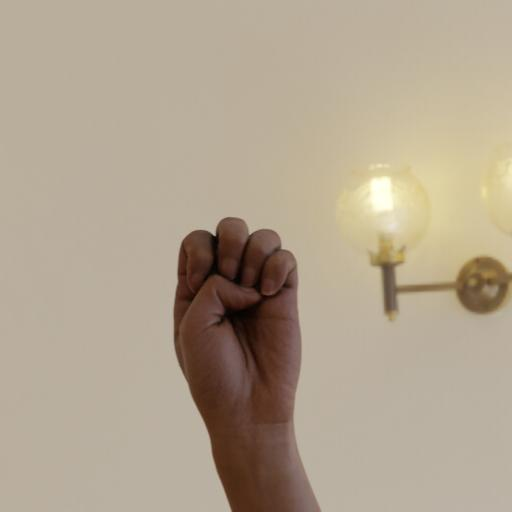E: (169, 211, 305, 436)
